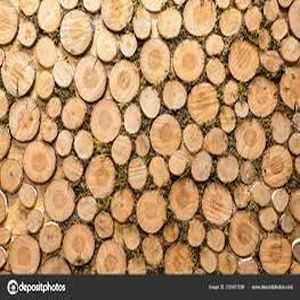log: (72, 55, 110, 104), (57, 9, 95, 57), (139, 37, 172, 89), (88, 97, 123, 146), (186, 80, 220, 130), (42, 178, 77, 225), (228, 211, 262, 259), (149, 112, 184, 158), (259, 144, 294, 189), (2, 50, 36, 96), (172, 38, 206, 84), (7, 97, 41, 142), (226, 36, 259, 82), (258, 233, 293, 276), (84, 155, 118, 199), (201, 181, 232, 229), (62, 222, 95, 267), (234, 118, 267, 163), (107, 58, 140, 103), (246, 74, 278, 119), (22, 141, 56, 183), (135, 191, 168, 234), (8, 234, 41, 276), (167, 179, 199, 222), (184, 1, 218, 37), (94, 242, 128, 276), (161, 244, 197, 276), (277, 63, 300, 110), (60, 96, 86, 132), (93, 30, 121, 63), (216, 8, 244, 41), (155, 7, 182, 40), (122, 102, 146, 139), (203, 128, 230, 160), (268, 109, 291, 146), (126, 158, 150, 193), (140, 234, 164, 269), (188, 151, 214, 183), (109, 187, 134, 220), (146, 154, 171, 187), (137, 85, 161, 119), (32, 36, 58, 67), (1, 159, 23, 195), (163, 79, 186, 113), (38, 1, 61, 34), (204, 56, 229, 86), (33, 69, 55, 103), (182, 124, 206, 155), (39, 221, 62, 253), (94, 210, 117, 241), (258, 48, 283, 76), (51, 61, 74, 91), (16, 20, 38, 51), (61, 156, 85, 184), (75, 194, 97, 224), (54, 130, 76, 160), (215, 154, 237, 184), (118, 222, 141, 250), (242, 6, 264, 35), (133, 10, 154, 40), (277, 35, 300, 62), (230, 183, 252, 211), (73, 131, 94, 160), (184, 218, 205, 247), (198, 247, 219, 276), (206, 226, 227, 255), (111, 135, 131, 165), (132, 133, 155, 159), (218, 103, 236, 136), (257, 205, 279, 231), (220, 78, 239, 108), (23, 208, 44, 235), (250, 181, 270, 209), (18, 182, 37, 211), (238, 160, 260, 185), (168, 151, 189, 177), (205, 33, 225, 59), (270, 187, 289, 214), (119, 31, 138, 58), (217, 250, 236, 276), (270, 17, 289, 43), (162, 221, 183, 244), (40, 119, 59, 142), (256, 28, 274, 52), (262, 1, 281, 22), (279, 213, 297, 235), (46, 97, 61, 120), (234, 99, 250, 120), (288, 132, 300, 152)
